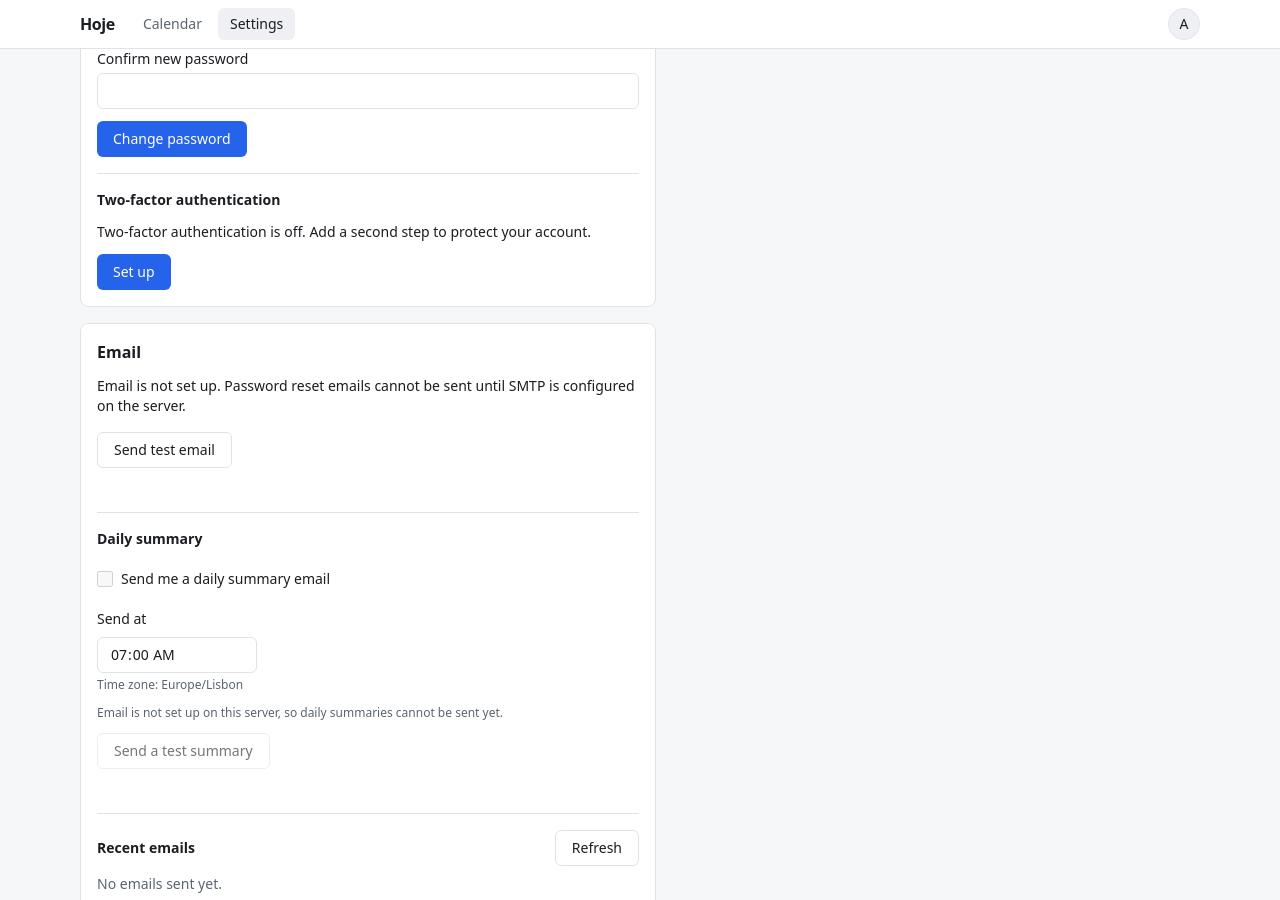
Test case: email settings › reports when SMTP is not configured (503)
(page scrolled)
Click the button "Send test email".
click(164, 450)  # box [97,432,232,468]
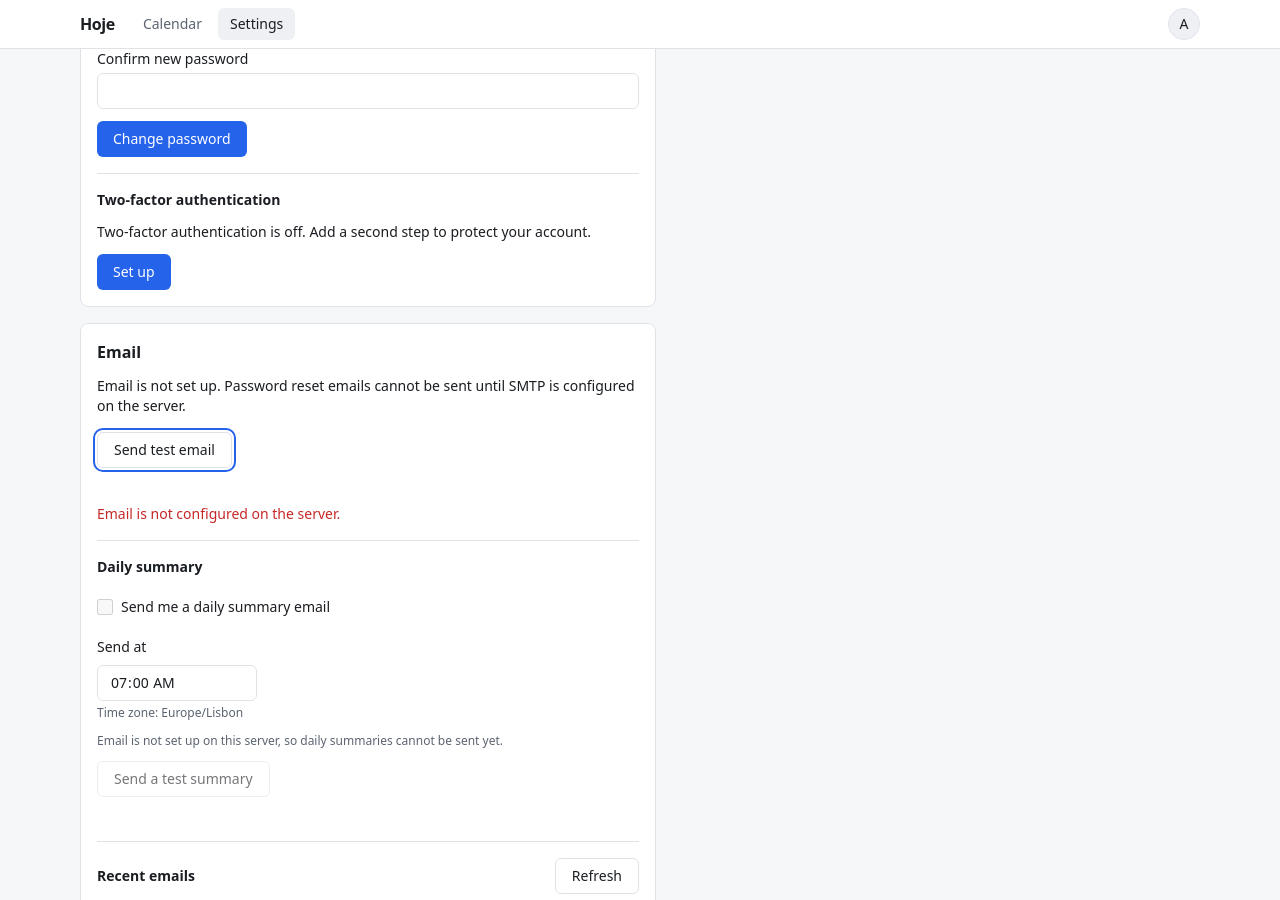
expect the text "Email is not configured on the server." is shown: met, box [97,504,340,523]
